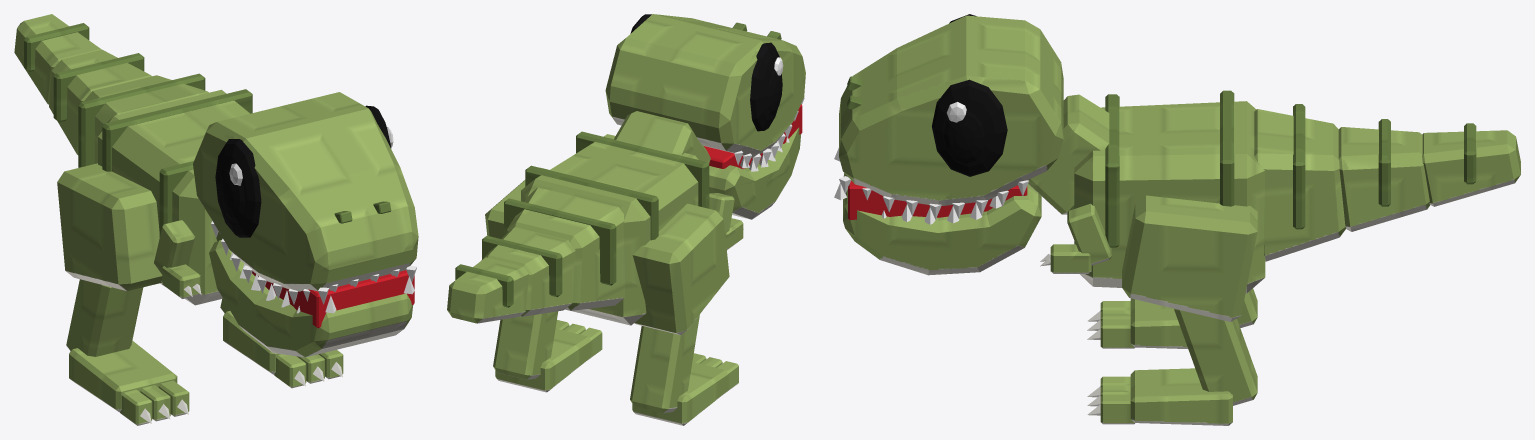
Rendered from bebe_01_Compsognathus.glb.
The picture shows the model from 3 angles, left to right: view 1: azimuth 30°, elevation 25°; view 2: azimuth 150°, elevation 25°; view 3: azimuth 270°, elevation 25°; orthographic projection. The views are drawn at different scales.
Visible parts, largest first — view 1: bebe_01_Compsognathus; view 2: bebe_01_Compsognathus; view 3: bebe_01_Compsognathus.
Boxes of the visible parts, bbox=[...] form: bebe_01_Compsognathus: bbox=[14, 14, 418, 425]; bebe_01_Compsognathus: bbox=[447, 14, 805, 425]; bebe_01_Compsognathus: bbox=[834, 14, 1520, 425].
Bounding box in the file's own units: 0.5612 × 0.8004 × 1.51.
1 material, 1 textured.
